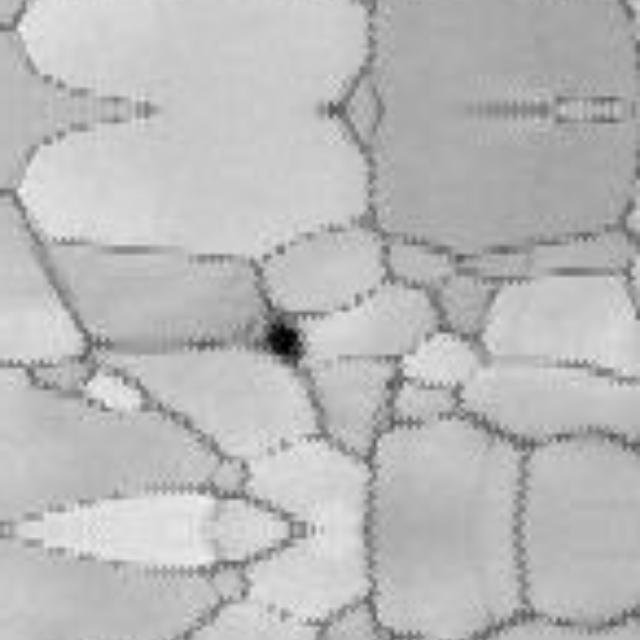good_void: (261, 318, 307, 367)
